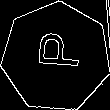P_W: (30, 37, 82, 77)
